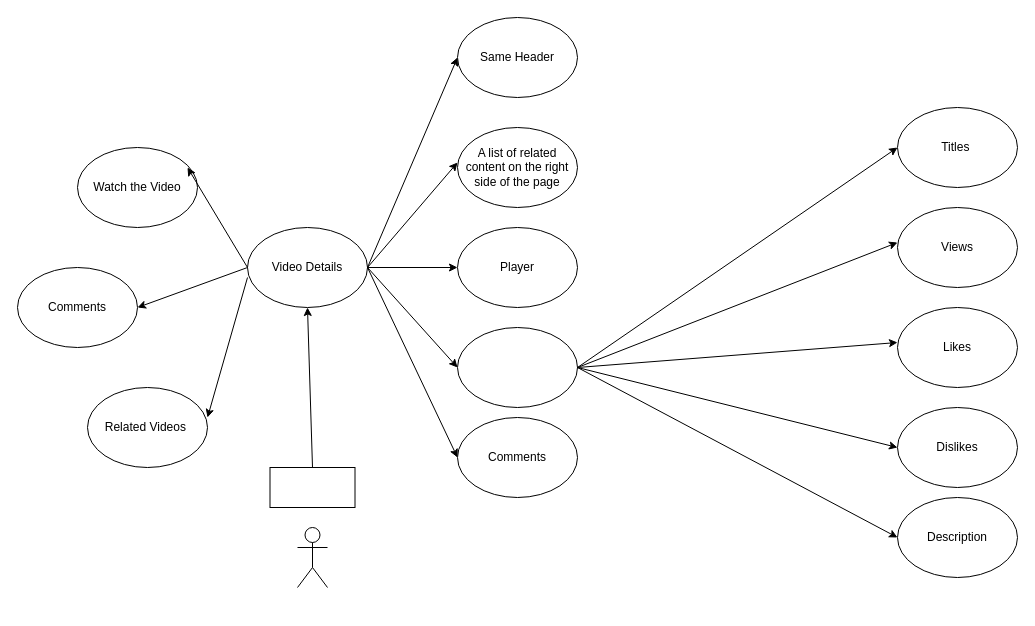
Some shapes in this 1035 by 626 pixel diagram are drawn without their labels. The shapes that lost their labels are listed below. From the top down, each one's centre as x and y in pixels, then its label:
At pixel 517 367: "Video Information".
At pixel 312 487: "Video Item".
At pixel 312 557: "Actor".
